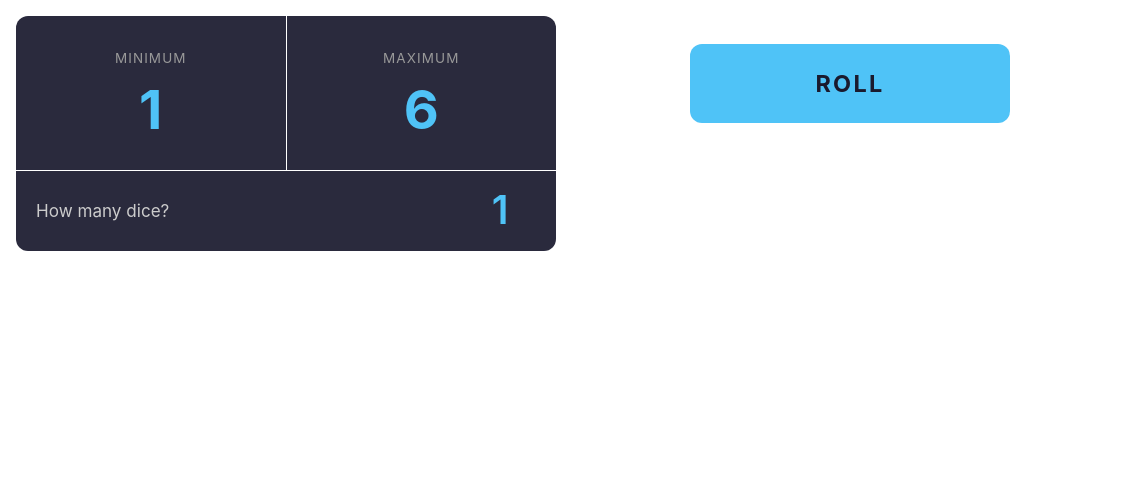
Test: DiceRoll sharing › copies the same payload when the share sheet is unavailable
Click the button "ROLL".
click(850, 84)  # box [690, 44, 1010, 124]
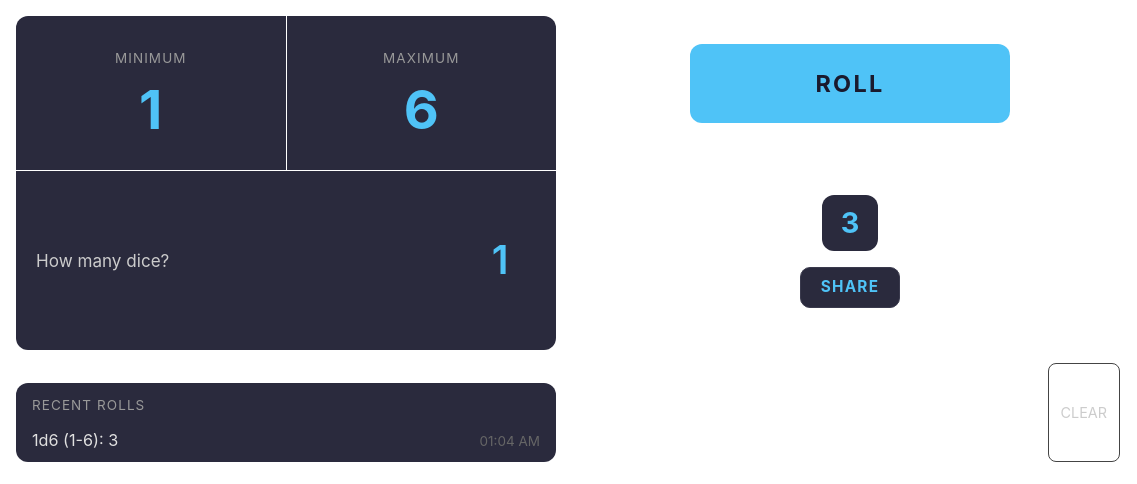
Click the button "SHARE".
click(850, 287)  # box [800, 267, 900, 308]
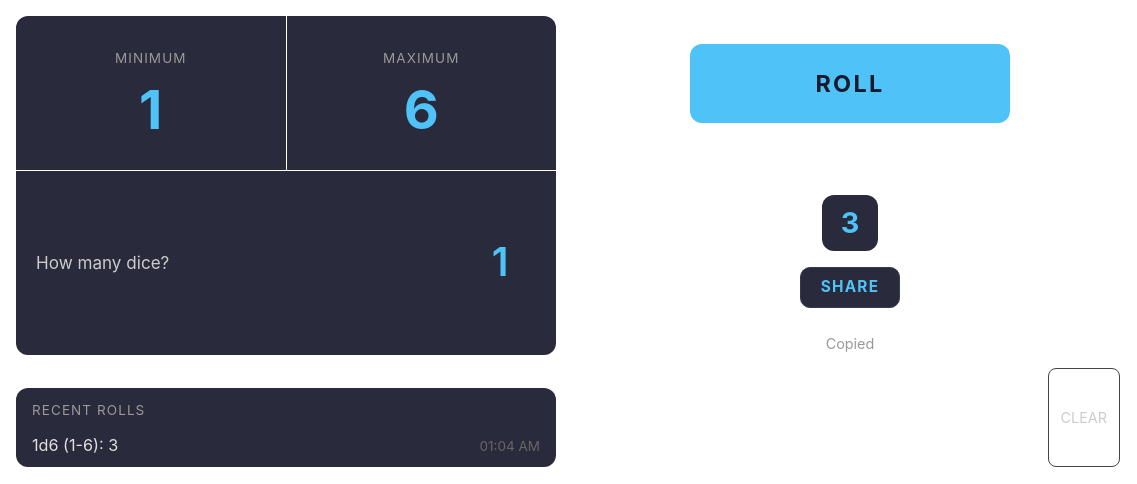
Now the message reads "Copied", box [826, 335, 874, 352]
